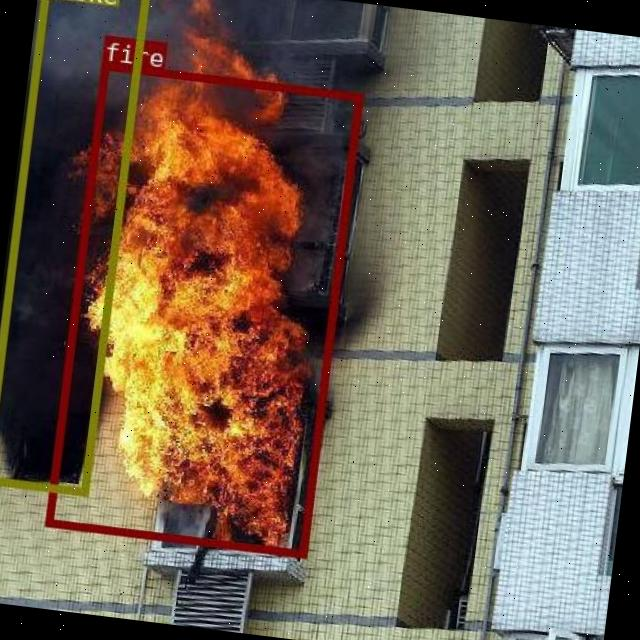fire: (44, 61, 361, 556)
smoke: (0, 0, 150, 493)
